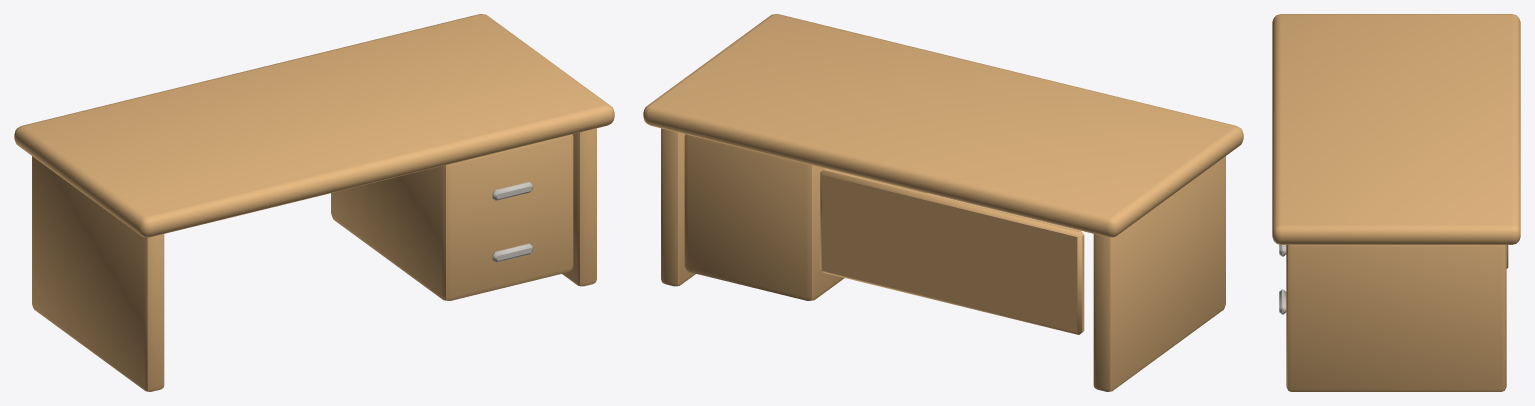
The model's file is office_desk_pine.glb.
The picture shows the model from 3 angles, left to right: view 1: azimuth 30°, elevation 25°; view 2: azimuth 150°, elevation 25°; view 3: azimuth 270°, elevation 25°; orthographic projection. The views are drawn at different scales.
Visible parts, largest first — view 1: pine, steel; view 2: pine; view 3: pine, steel.
Boxes of the visible parts, bbox=[...] form: pine: bbox=[14, 14, 614, 391]; steel: bbox=[492, 182, 532, 262]; pine: bbox=[643, 14, 1243, 391]; pine: bbox=[1272, 14, 1520, 391]; steel: bbox=[1279, 244, 1286, 314].
Size of the model in its own units: 1.45 by 0.53 by 0.7.
